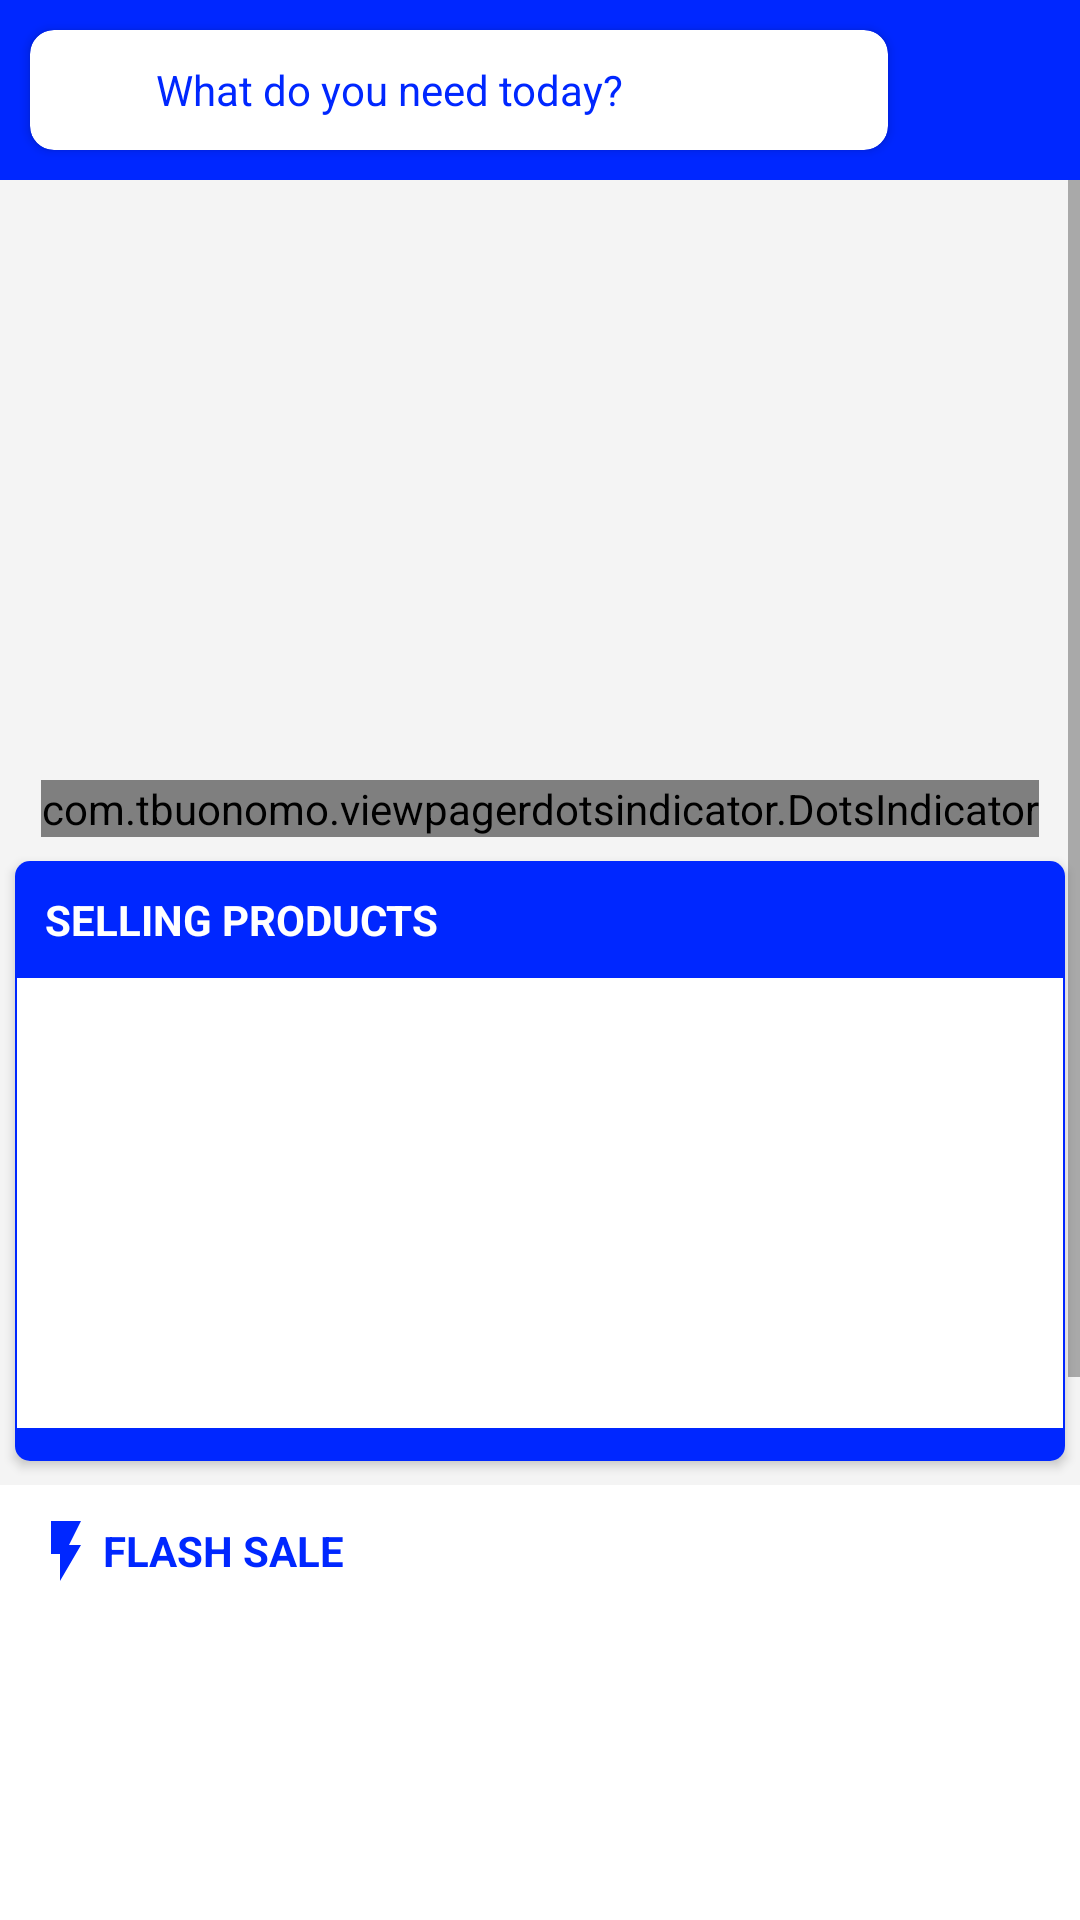

Where icons sit on this 1080px×1920px app screen, as (x1, y1, x2, y2):
flash on: (51, 1521, 81, 1581)
